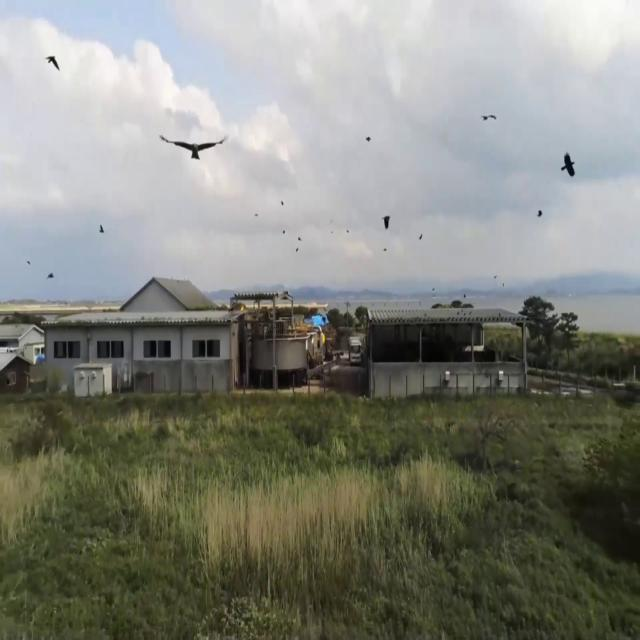bird: (161, 104, 226, 177), (177, 119, 214, 172), (561, 139, 576, 191), (45, 45, 60, 83), (480, 104, 497, 135), (188, 138, 202, 170), (46, 263, 54, 286)
